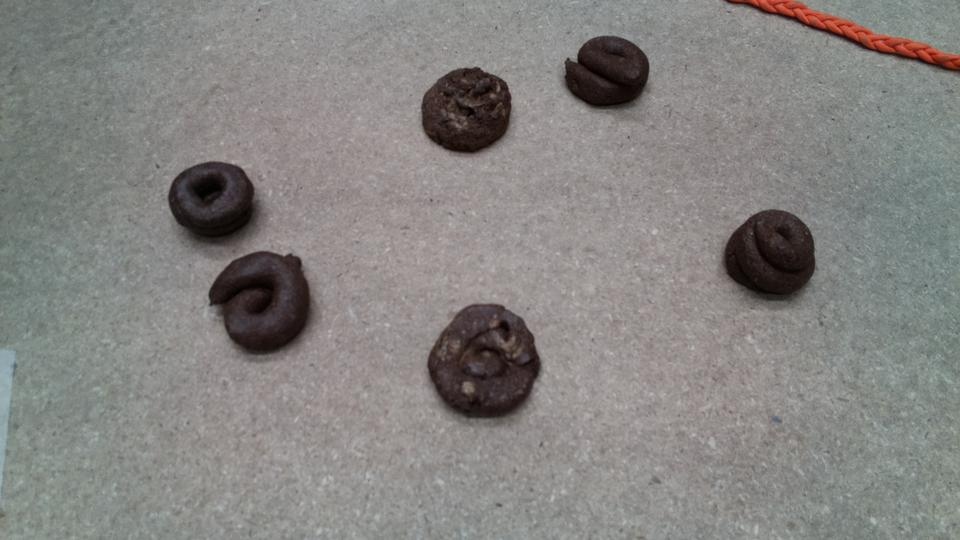poop: (420, 298, 549, 426), (201, 253, 317, 353), (726, 198, 822, 299), (415, 64, 520, 153), (555, 24, 656, 113), (164, 160, 256, 237)
rope: (733, 1, 957, 109)
